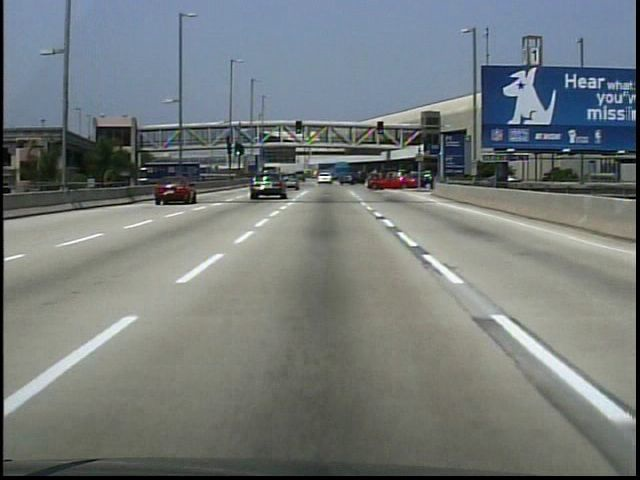person: (226, 135, 232, 147)
